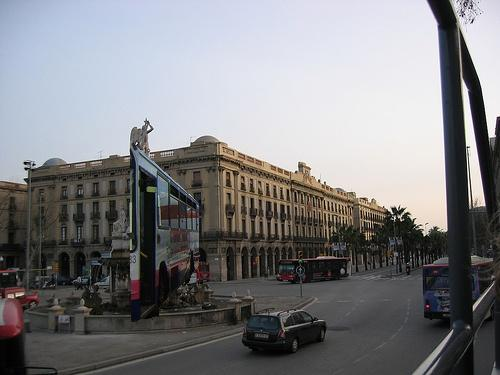tampered: (131, 141, 199, 322)
